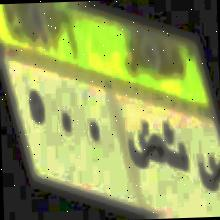0: (84, 120, 106, 157), (56, 100, 72, 145)
5: (22, 91, 52, 137)
daad: (128, 120, 163, 176)
seen: (198, 149, 220, 197)
thaa: (162, 118, 190, 174)
